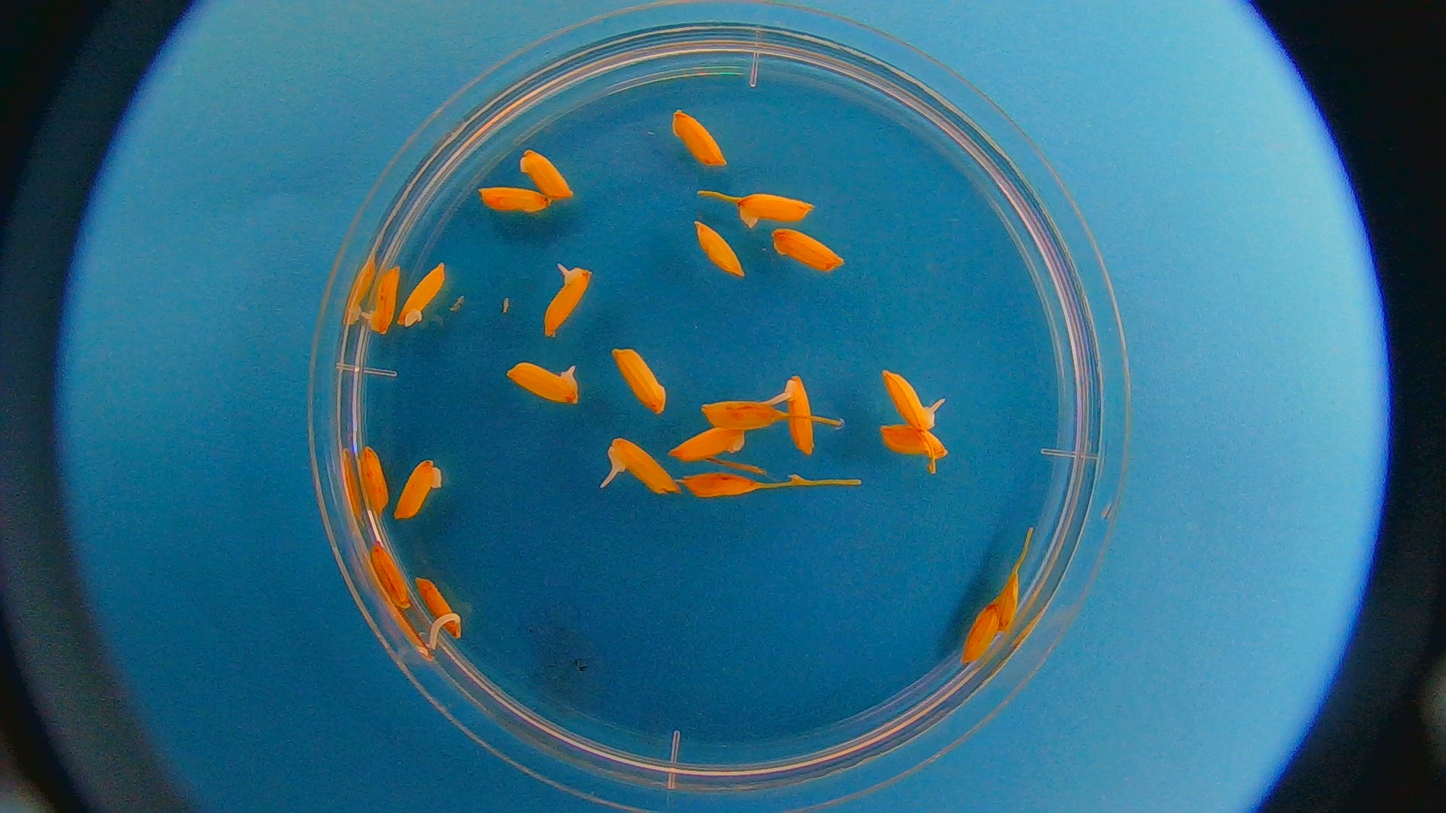no: (610, 337, 673, 416), (687, 215, 752, 286), (664, 106, 732, 172), (724, 192, 821, 233), (514, 145, 582, 203), (771, 226, 847, 273), (366, 540, 413, 616), (667, 425, 749, 468), (875, 425, 958, 466), (393, 458, 442, 523), (959, 601, 1003, 671), (700, 397, 780, 434), (355, 445, 391, 522), (471, 184, 550, 218), (682, 472, 760, 499), (1001, 569, 1023, 633)
yes: (398, 256, 454, 333), (609, 437, 683, 493), (542, 265, 590, 337), (506, 363, 579, 409), (359, 265, 405, 338), (777, 376, 818, 455), (418, 577, 466, 641), (882, 375, 936, 429)
